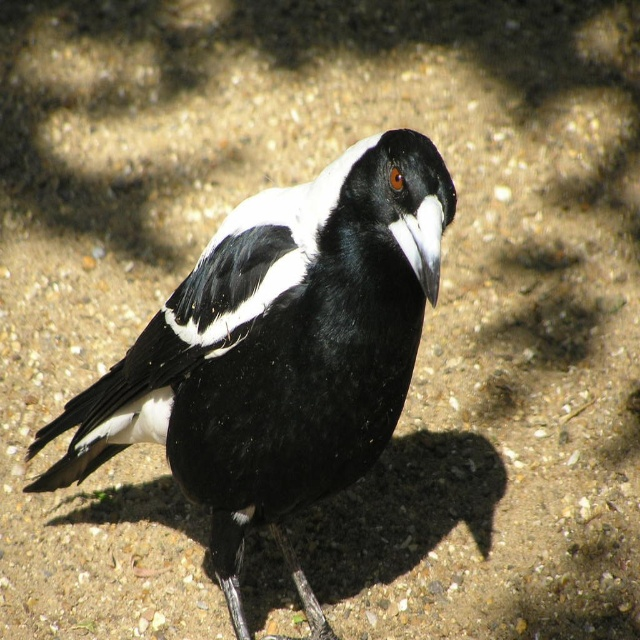Magpie: (23, 124, 459, 639)
